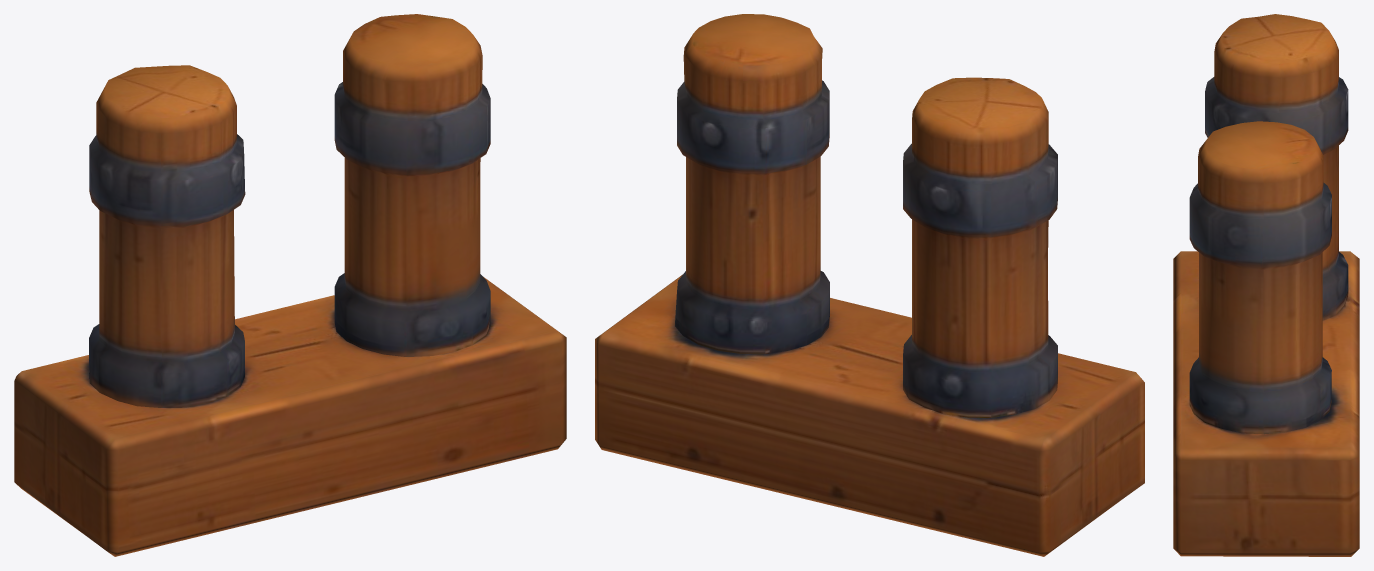
File: bollard.glb
3 views of the same model, side by side, from view 1: azimuth 30°, elevation 25°; view 2: azimuth 150°, elevation 25°; view 3: azimuth 270°, elevation 25° (orthographic). The views are drawn at different scales.
Visible parts, largest first — view 1: bitts; view 2: bitts; view 3: bitts.
Part boxes in pixels (x1,y1,x2,y2): bitts: (14, 14, 566, 556); bitts: (595, 14, 1144, 556); bitts: (1173, 14, 1359, 556).
Bounding box in the file's own units: 0.6753 × 0.5654 × 0.2592.
1 material, 1 textured.
